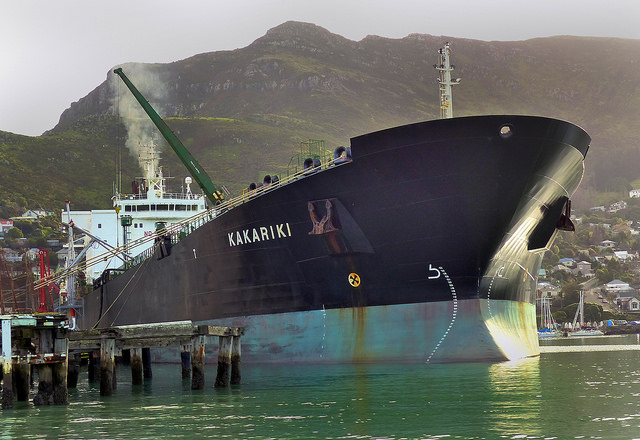tanker: (66, 127, 576, 354)
